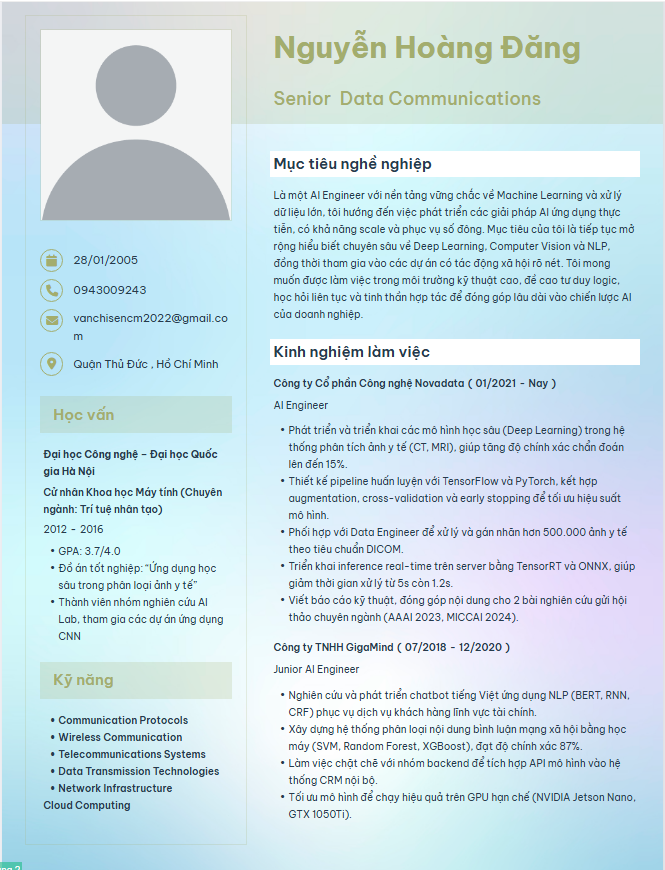address: (36, 347, 229, 381)
gpa: (47, 540, 128, 558)
level: (271, 83, 336, 114)
position: (338, 83, 548, 111)
skill: (32, 655, 240, 822)
